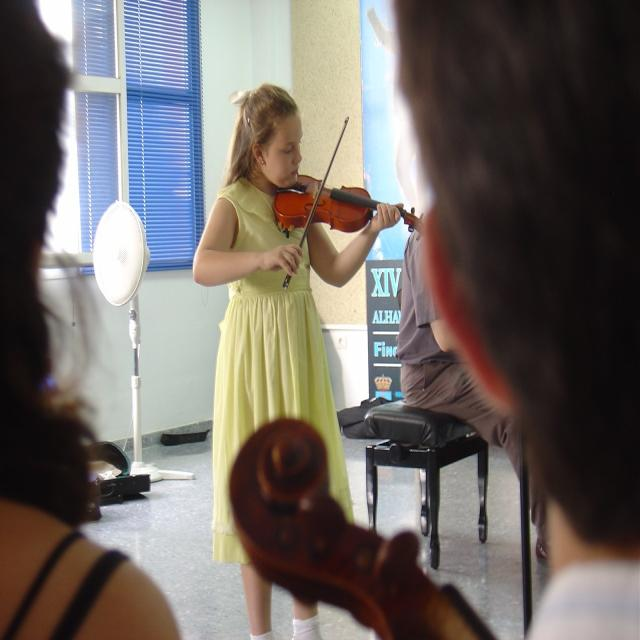violin: (217, 401, 508, 640), (268, 170, 429, 245)
